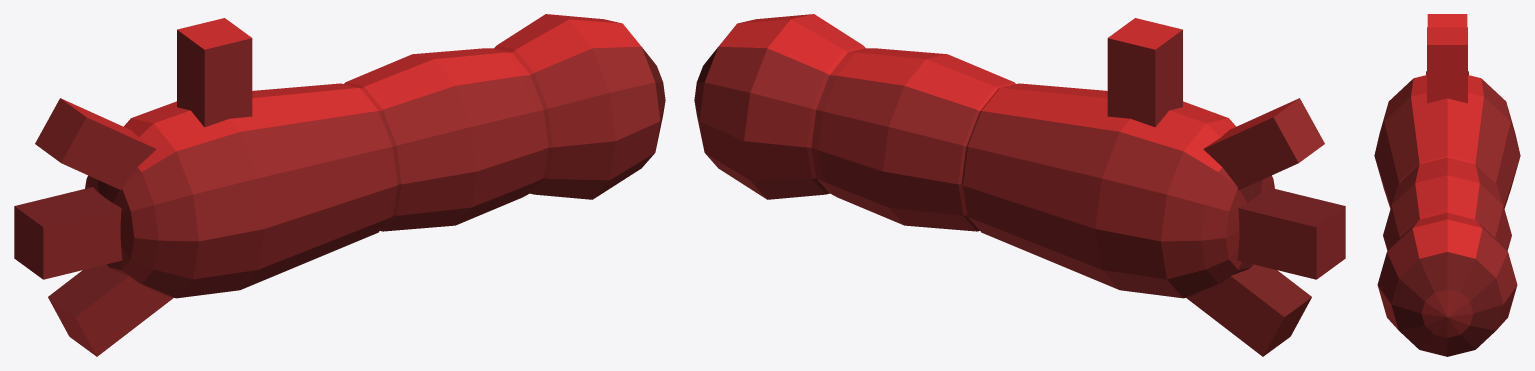
File: AIDAN braço 2.fbx
3 views of the same model, side by side, from view 1: azimuth 30°, elevation 25°; view 2: azimuth 150°, elevation 25°; view 3: azimuth 270°, elevation 25° (orthographic). The views are drawn at different scales.
Parts seen in each view (by area): view 1: AIDAN.001; view 2: AIDAN.001; view 3: AIDAN.001.
Part boxes in pixels (box(x1,y1,x2,y2)): AIDAN.001: box(14, 14, 665, 356); AIDAN.001: box(694, 14, 1345, 356); AIDAN.001: box(1374, 14, 1520, 356).
Size of the model in its own units: 217 by 92.63 by 58.46.
1 material, 1 textured.
